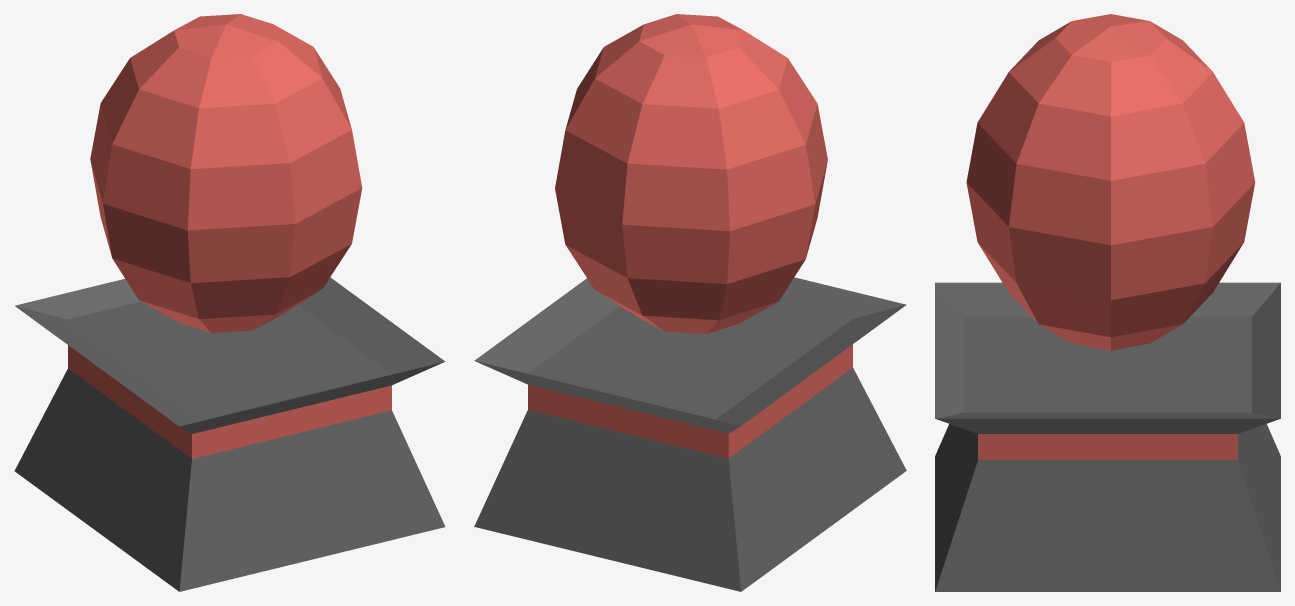
Rendered from Teleport.fbx.
3 views of the same model, side by side, from view 1: azimuth 30°, elevation 25°; view 2: azimuth 150°, elevation 25°; view 3: azimuth 270°, elevation 25° (orthographic). The views are drawn at different scales.
Parts seen in each view (by area): view 1: teleprt; view 2: teleprt; view 3: teleprt.
Part boxes in pixels (x1=…): teleprt: x1=14, y1=14, x2=445, y2=591; teleprt: x1=474, y1=14, x2=906, y2=591; teleprt: x1=935, y1=14, x2=1280, y2=591.
Bounding box in the file's own units: 131 × 223 × 141.
